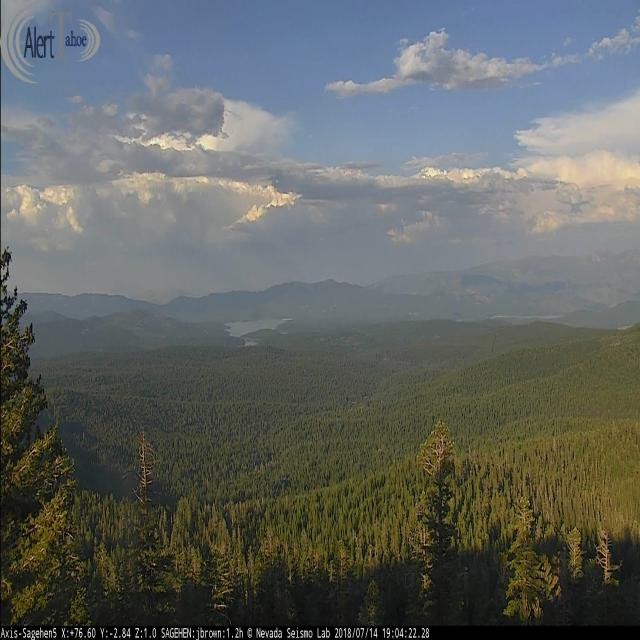smoke: (80, 328, 88, 335)
